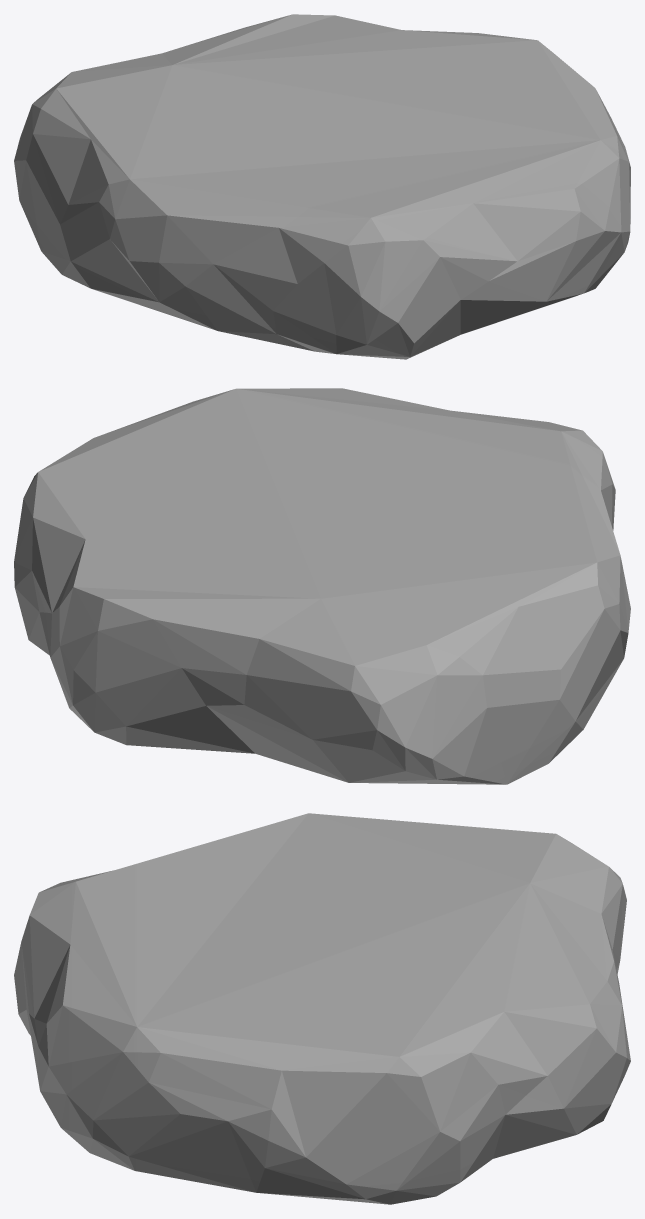
The model's file is Rock 08.FBX.
The picture shows the model from 3 angles, top to bottom: view 1: azimuth 30°, elevation 25°; view 2: azimuth 150°, elevation 25°; view 3: azimuth 270°, elevation 25°; orthographic projection. The views are drawn at different scales.
Parts seen in each view (by area): view 1: Box001; view 2: Box001; view 3: Box001.
Boxes of the visible parts, x1,y1,x2,y2 form: Box001: (14,14,630,359); Box001: (14,388,630,784); Box001: (14,813,630,1204).
Bounding box in the file's own units: 43.61 × 12.21 × 42.63.
